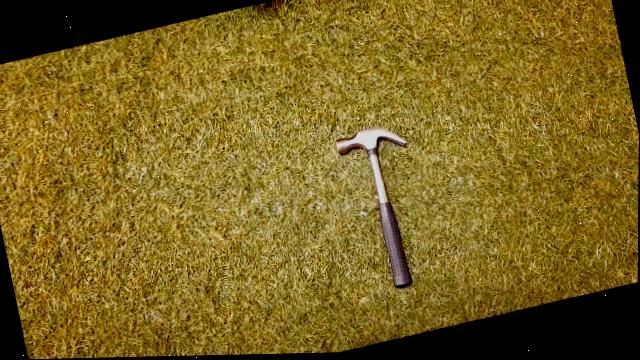hammer: (329, 111, 446, 299)
